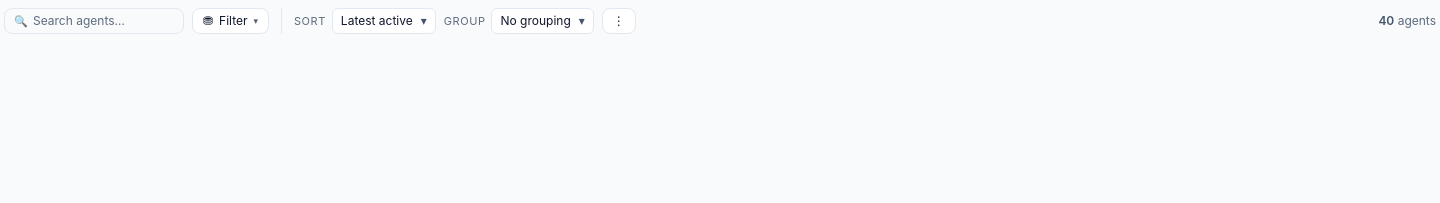
it: dashboardToolbar › keeps the filter selects behind the filter menu until it is opened
Click the button "⛃ Filter ▾".
click(230, 21)  # box top-left (192, 8), bottom-right (269, 34)
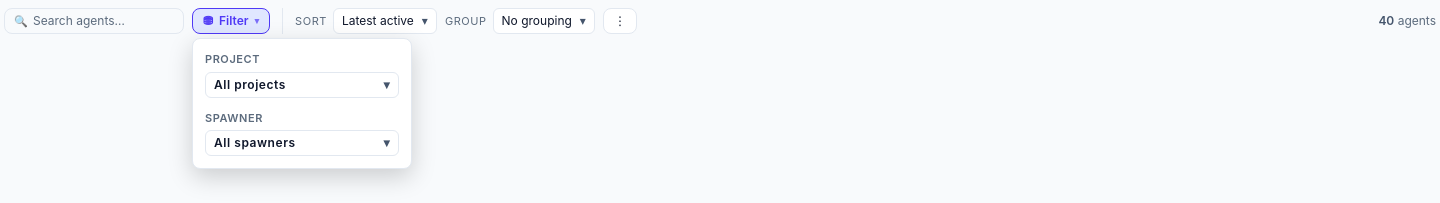
expect the dropdown with test id "select-project" is shown: met, box top-left (205, 72), bottom-right (399, 98)
